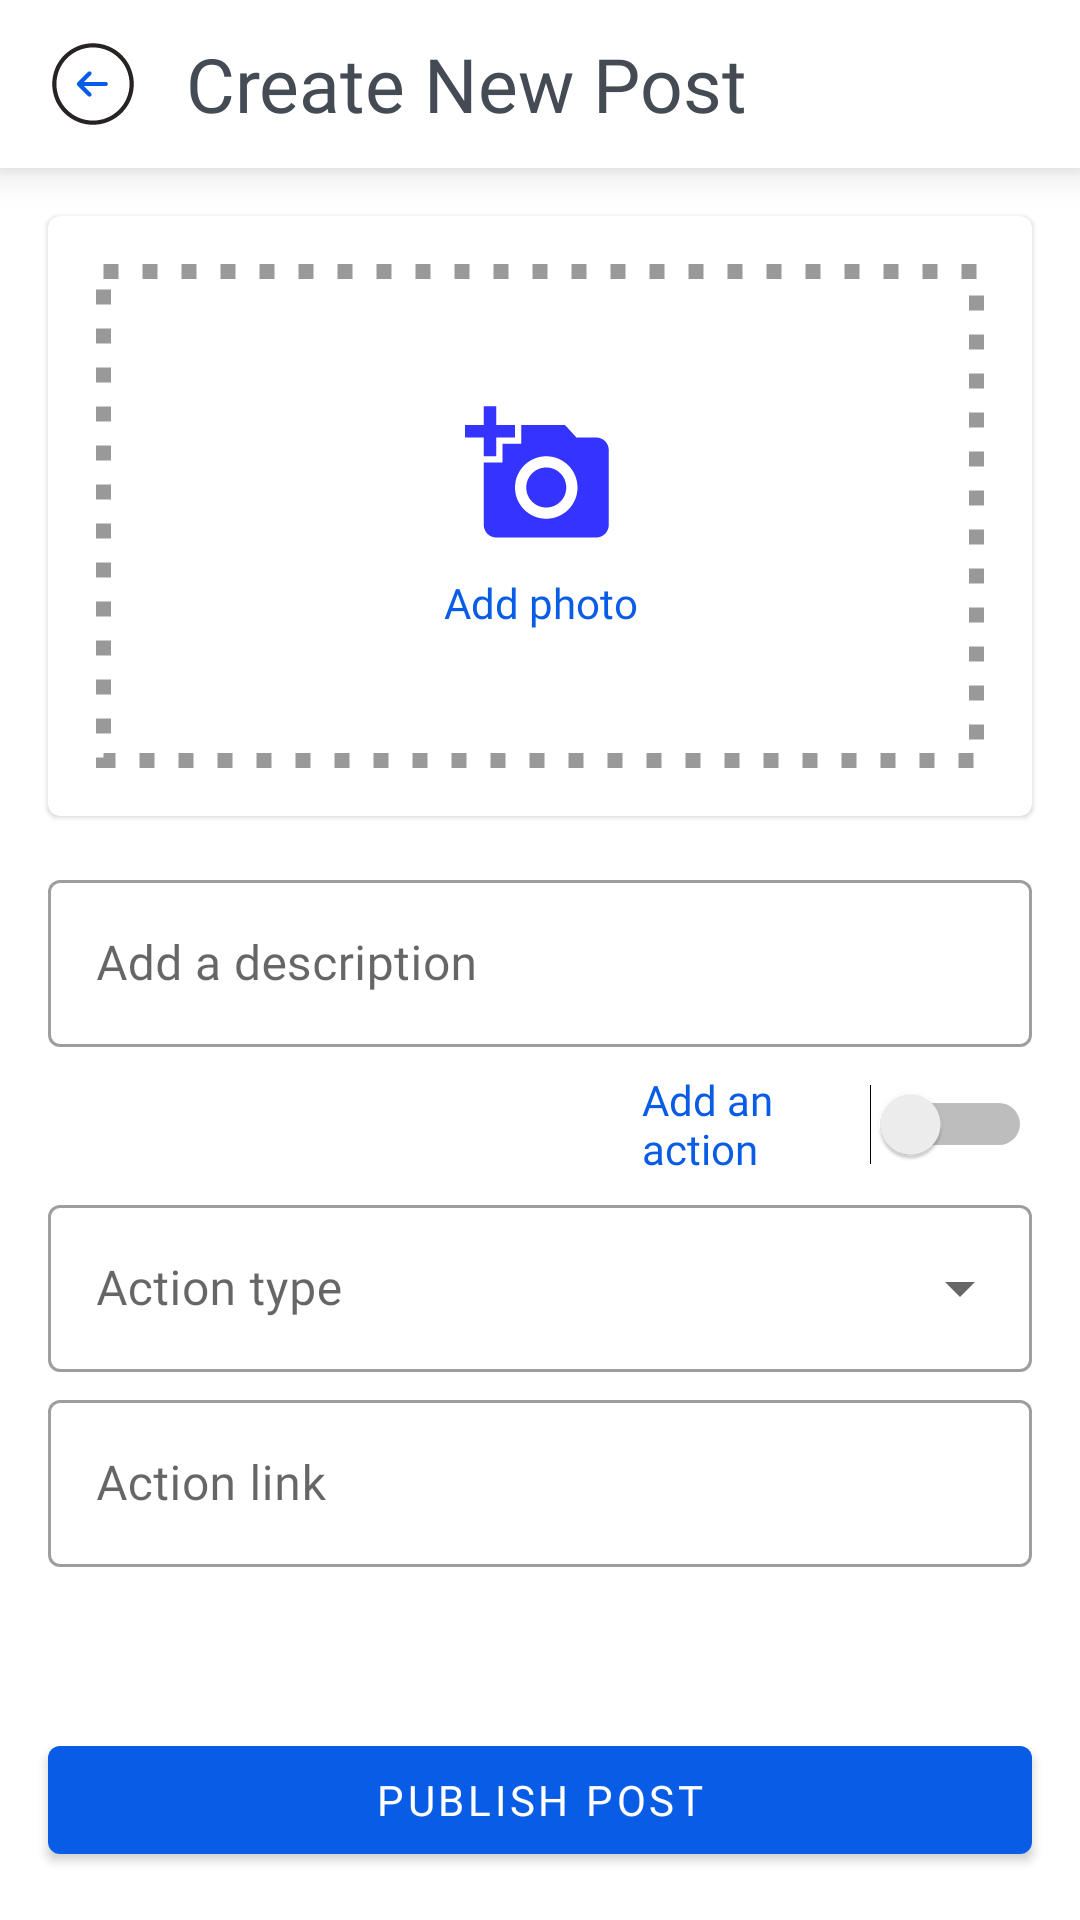

Screen size 1080×1920. Icon name, then its box in pixels as (x1,y1,x2,y2):
go back: (52,43,134,125)
